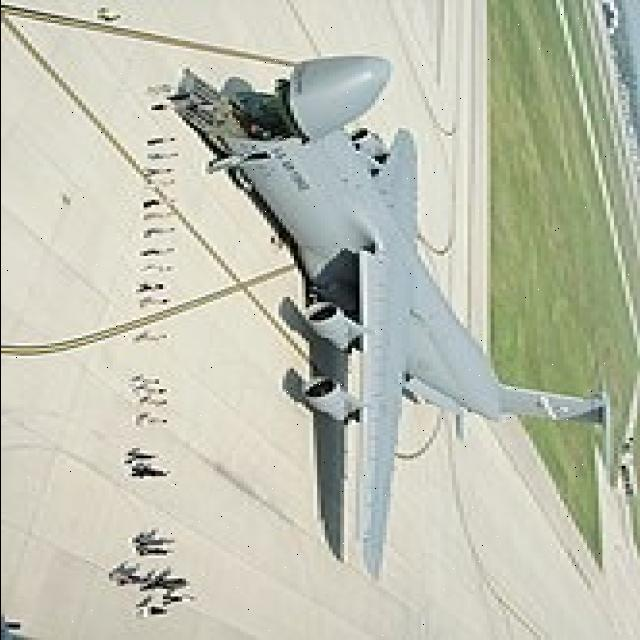C5: (172, 42, 584, 576)
